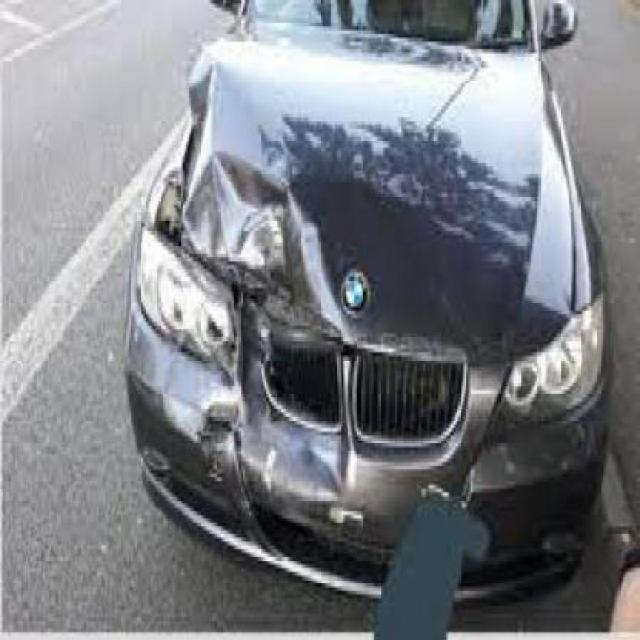bonnet-dent: (166, 52, 297, 454)
